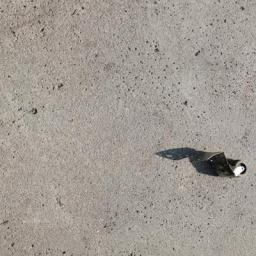FOD: (179, 144, 249, 185)
